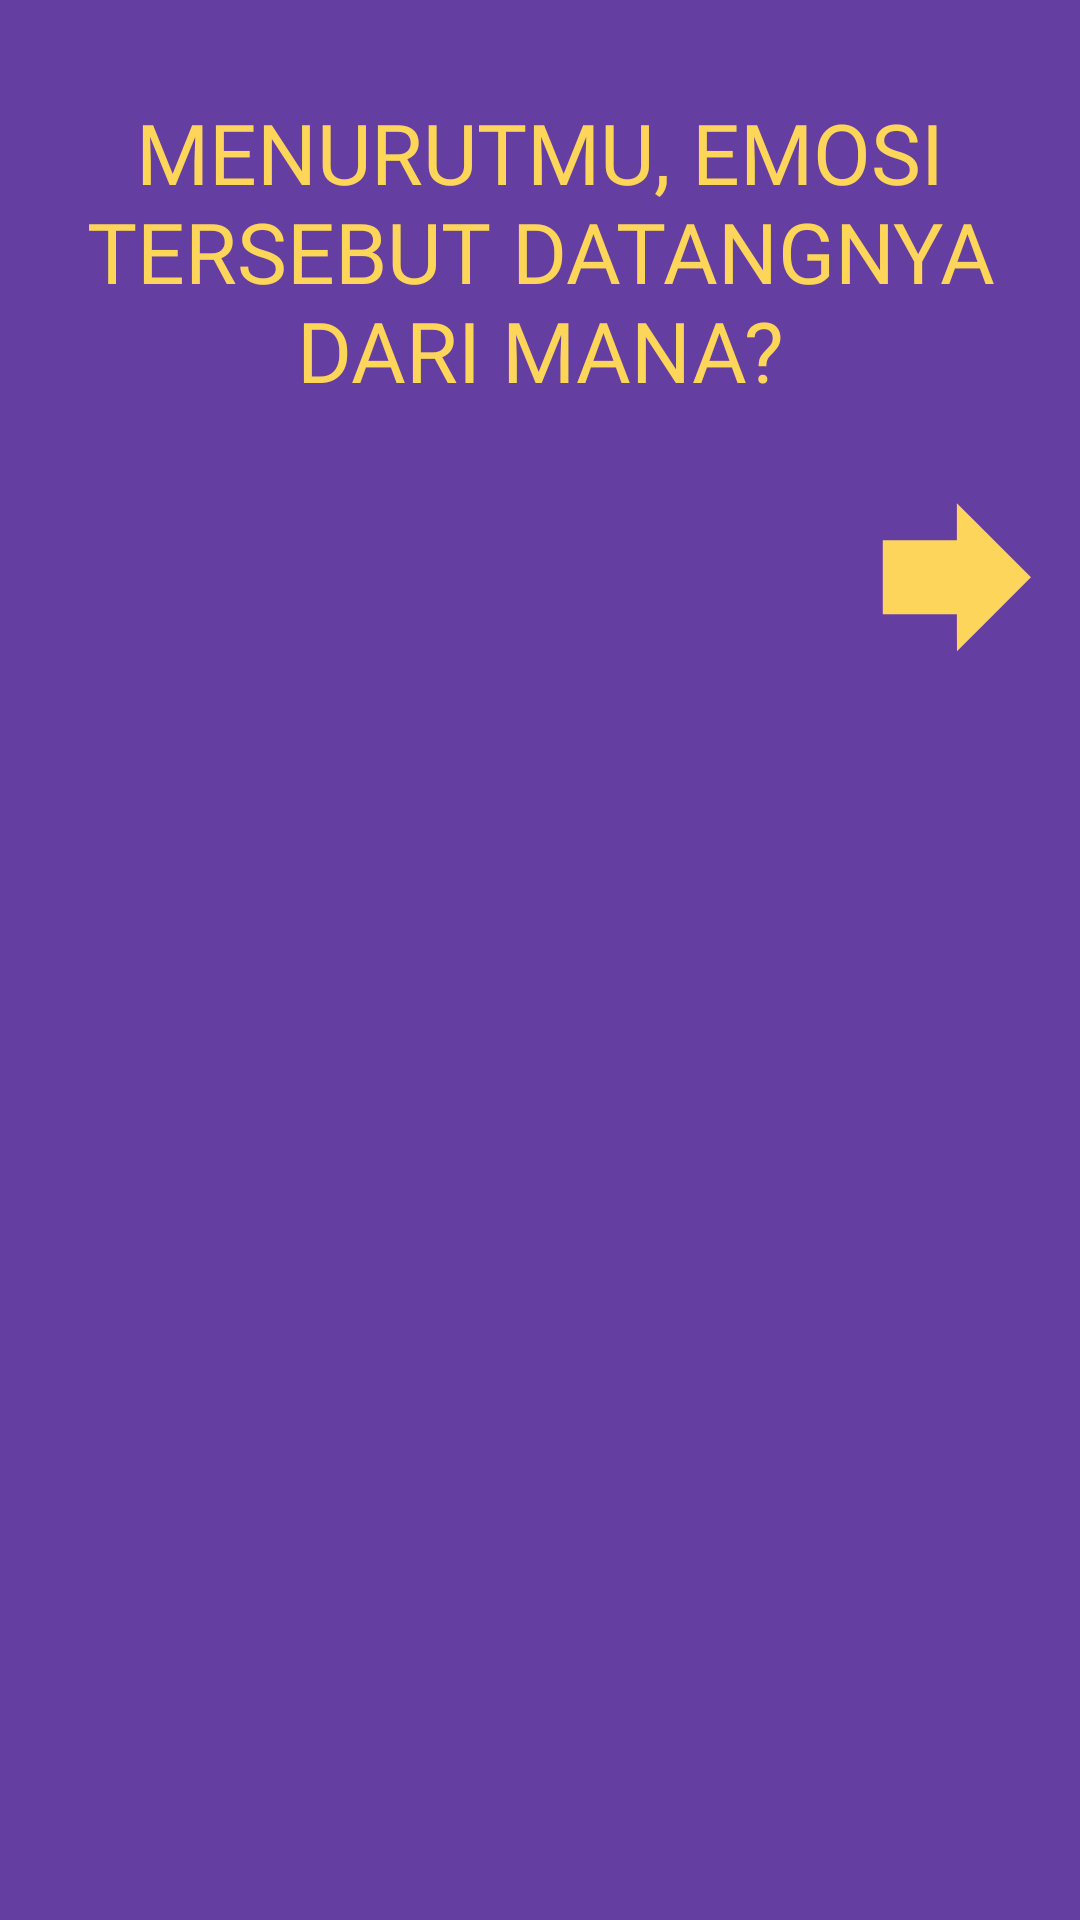

Icons on this 1080px×1920px Android screen, each with its box as box=[x1, y1, x2, y2]:
Icon halaman selanjutnya: box=[882, 503, 1031, 651]
